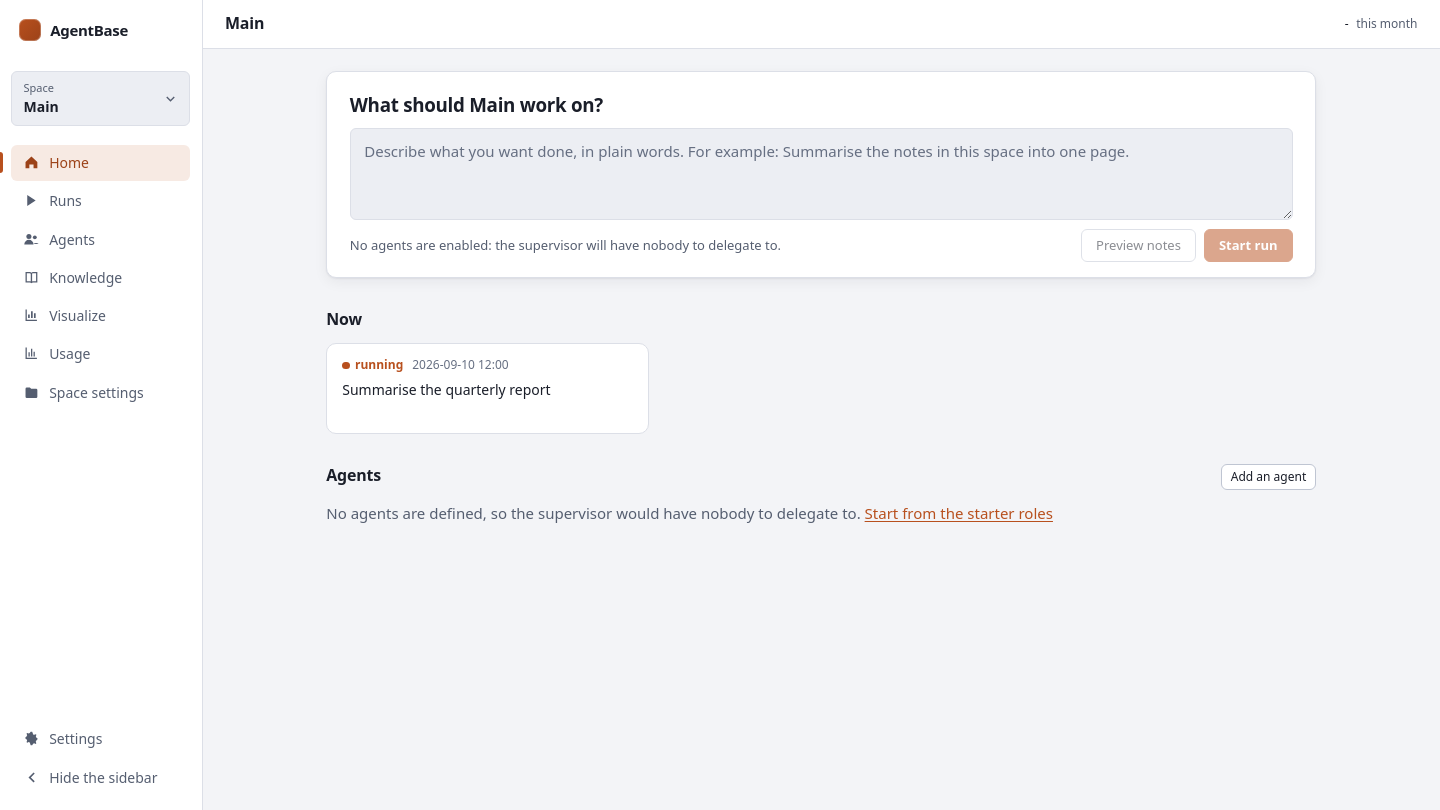
Test: spaces › re-keys both lists, the meter and the pre-flight on a switch, and closes the open run
The image size is (1440, 810).
Click the button with test id "run-card-run-1": (488,388) [326,343,649,434]
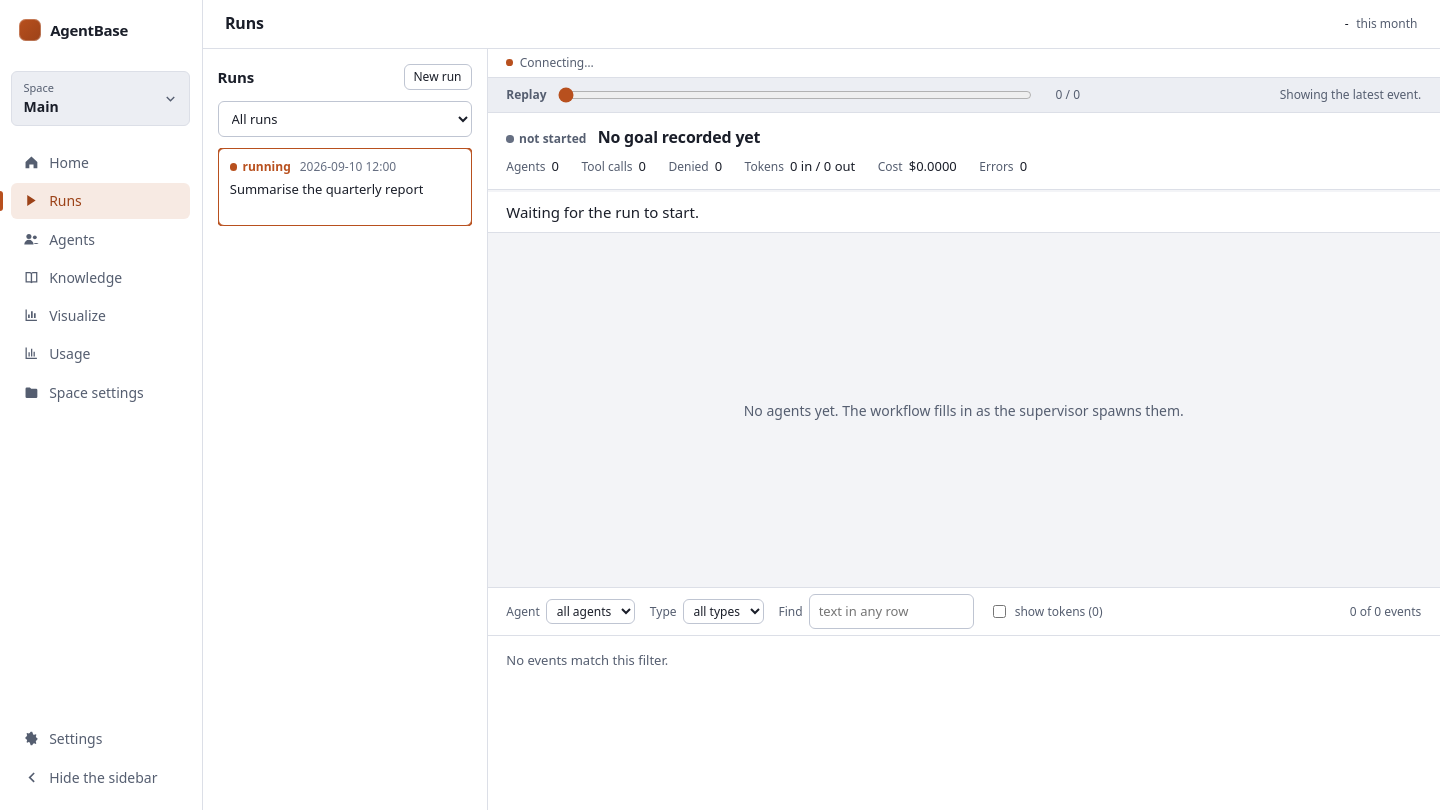
Now the element with test id "run-panel" is shown, box [488,78,1439,809]
Click the button with aria-label "Space: Main": (101,99) [11,71,190,126]
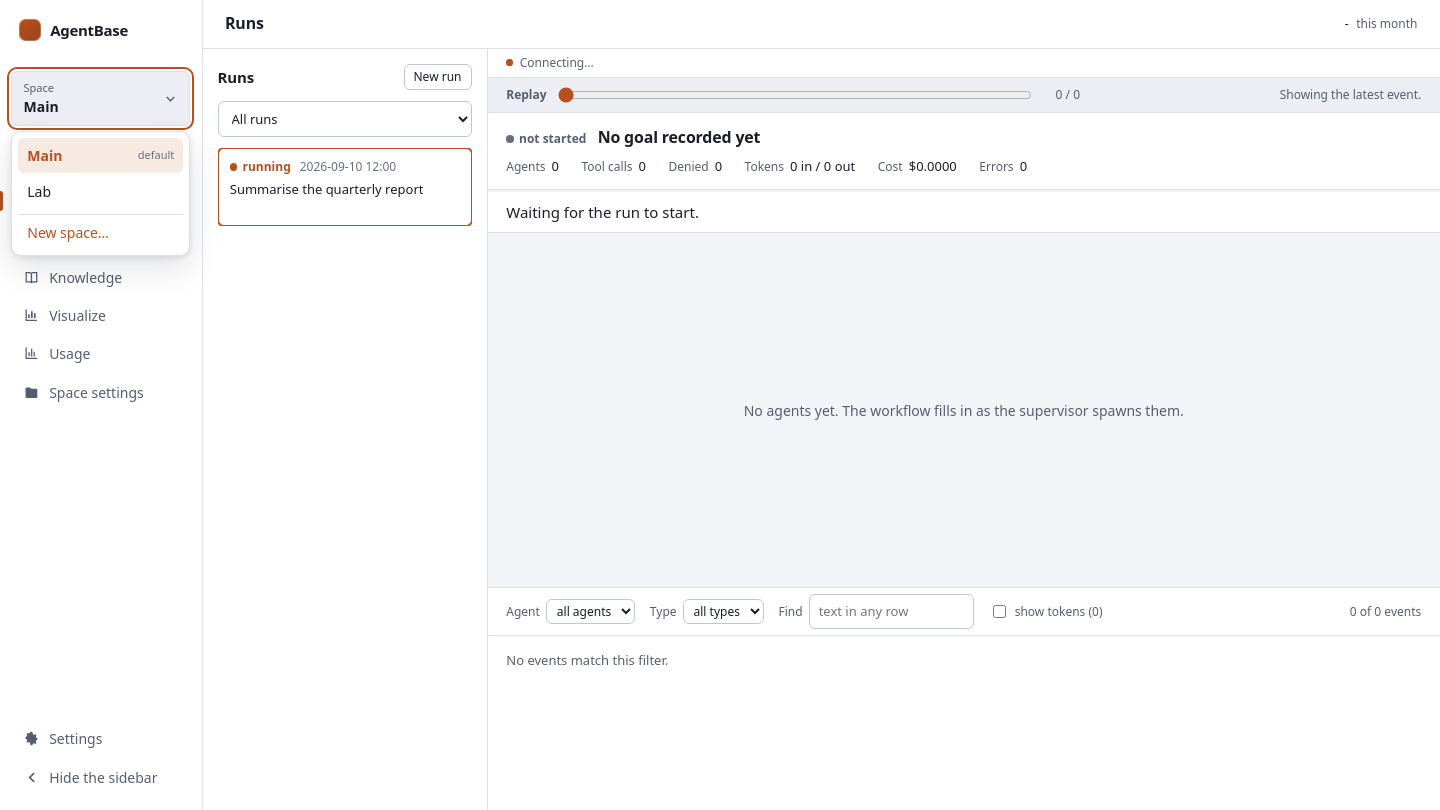
Click the button "Lab": (101,191) [18,174,183,208]
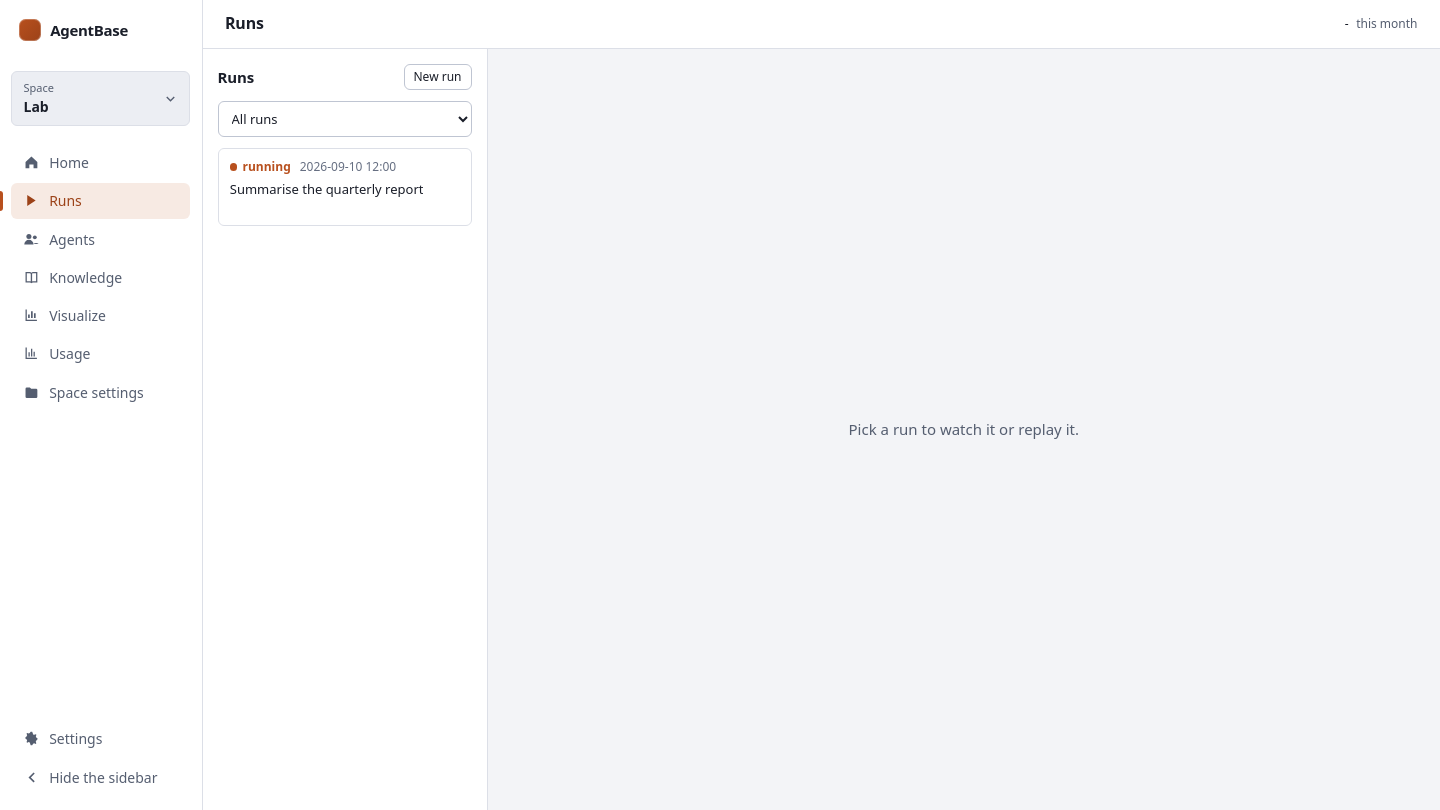
Now the button with aria-label "Space: Lab" is shown, box [11,71,190,126]
Now the element with test id "run-panel" is gone
